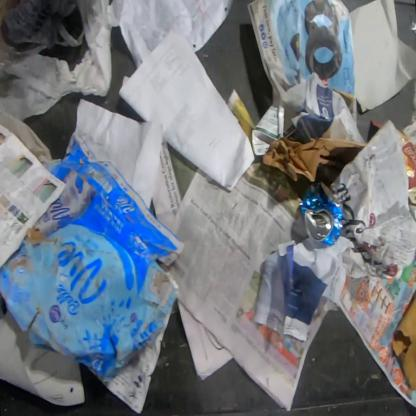cardboard: (0, 131, 189, 388), (396, 128, 416, 223)
metal: (298, 183, 344, 246)
soft_plastic: (0, 0, 113, 122)
